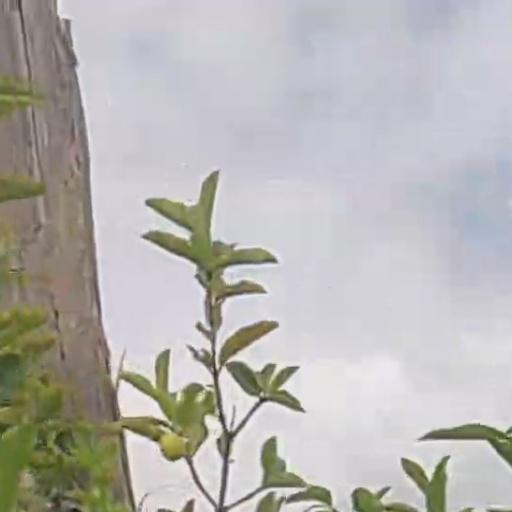acerola: (160, 433, 182, 459)
